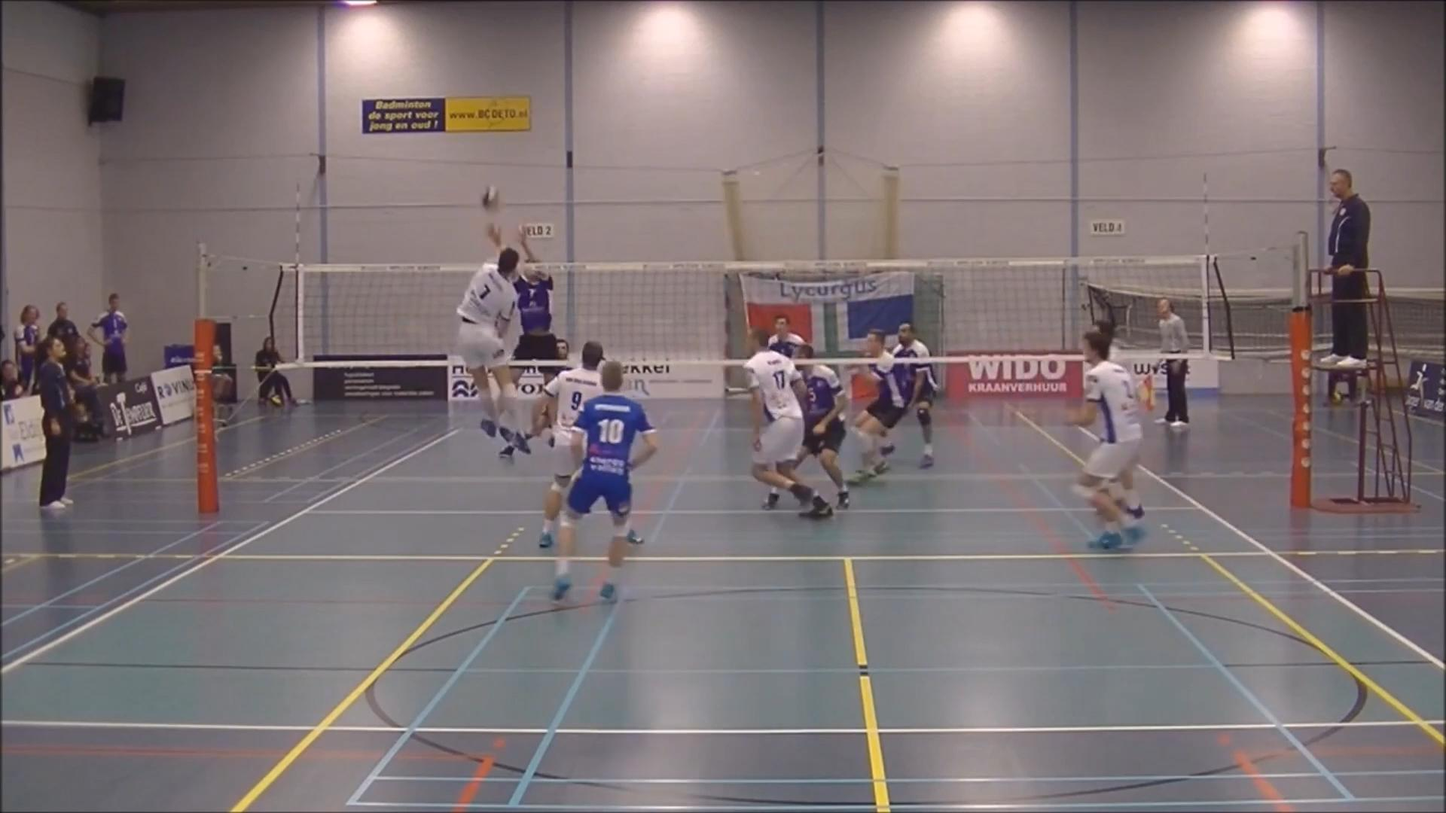attacco: (442, 217, 552, 454)
muro: (477, 217, 564, 435)
